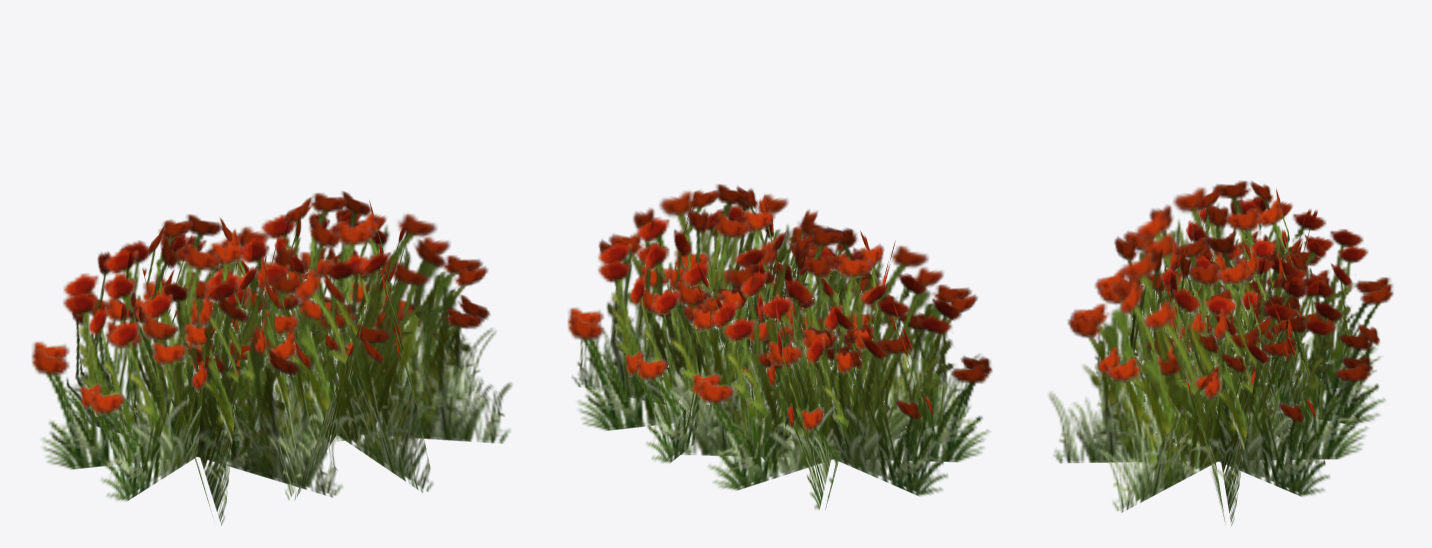
Rendered from plant-04.glb.
The picture shows the model from 3 angles, left to right: view 1: azimuth 30°, elevation 25°; view 2: azimuth 150°, elevation 25°; view 3: azimuth 270°, elevation 25°; orthographic projection. The views are drawn at different scales.
Parts seen in each view (by area): view 1: lavender_bush_01; view 2: lavender_bush_01; view 3: lavender_bush_01.
Part boxes in pixels (x1,y1,x2,y2): lavender_bush_01: [31, 191, 511, 525]; lavender_bush_01: [567, 184, 992, 509]; lavender_bush_01: [1048, 181, 1393, 525].
Bounding box in the file's own units: 4.95 × 3.59 × 3.82.
1 material, 1 textured.
